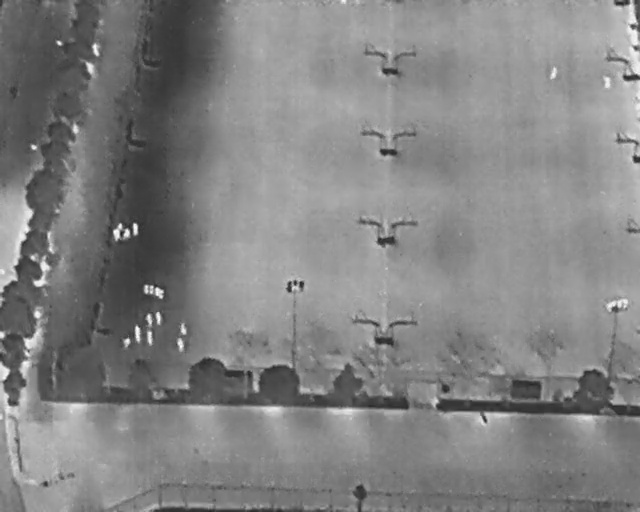Person: (176, 337, 185, 353), (549, 64, 558, 80), (134, 324, 141, 344), (155, 309, 162, 326), (603, 75, 612, 88), (146, 311, 153, 327), (146, 330, 153, 345), (113, 228, 121, 241), (132, 222, 139, 235), (123, 337, 131, 348), (123, 227, 130, 239), (180, 321, 186, 334), (117, 222, 123, 232)
